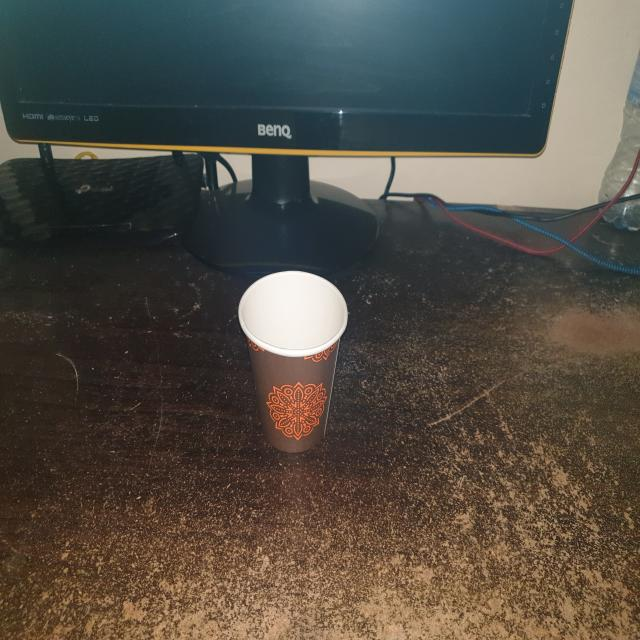cups: (236, 267, 349, 458)
